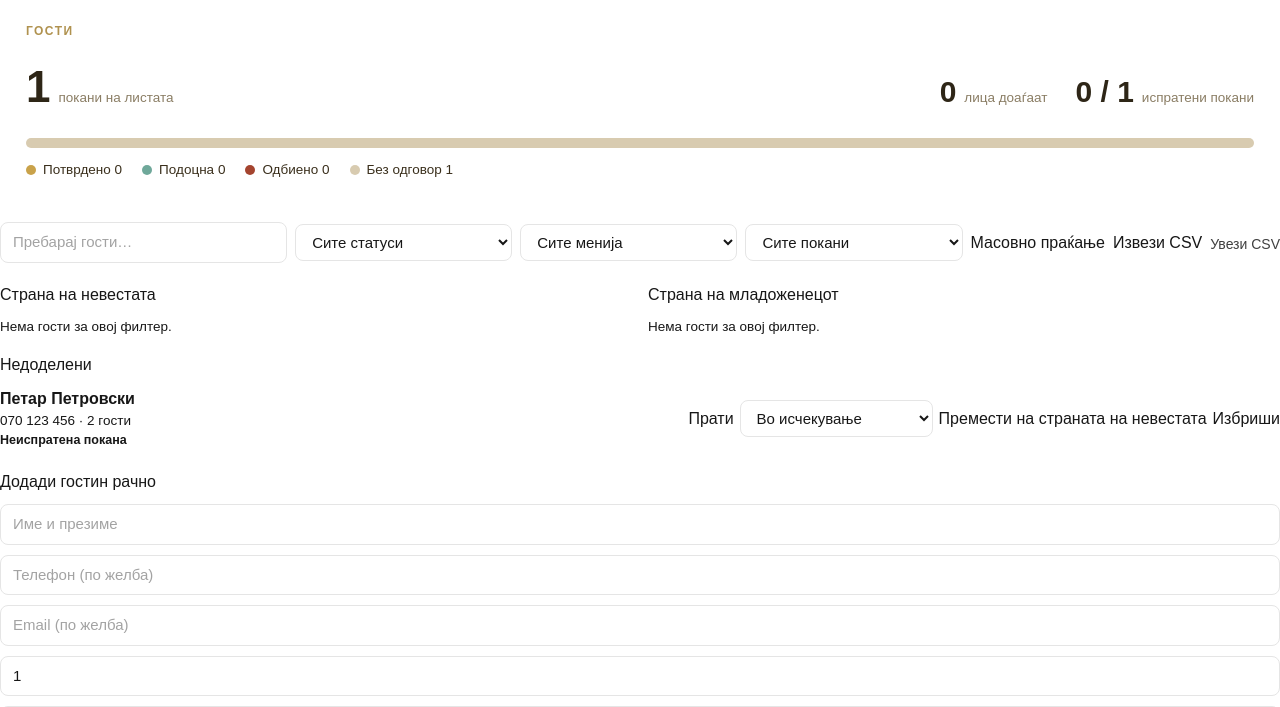
Test: GuestsClient sending invitations (A9) › asks for the invitation first when there is none
This screenshot has width=1280, height=707.
Click the button with aria-label "Прати покана на Петар Петровски".
click(711, 418)  # box [688, 406, 734, 430]
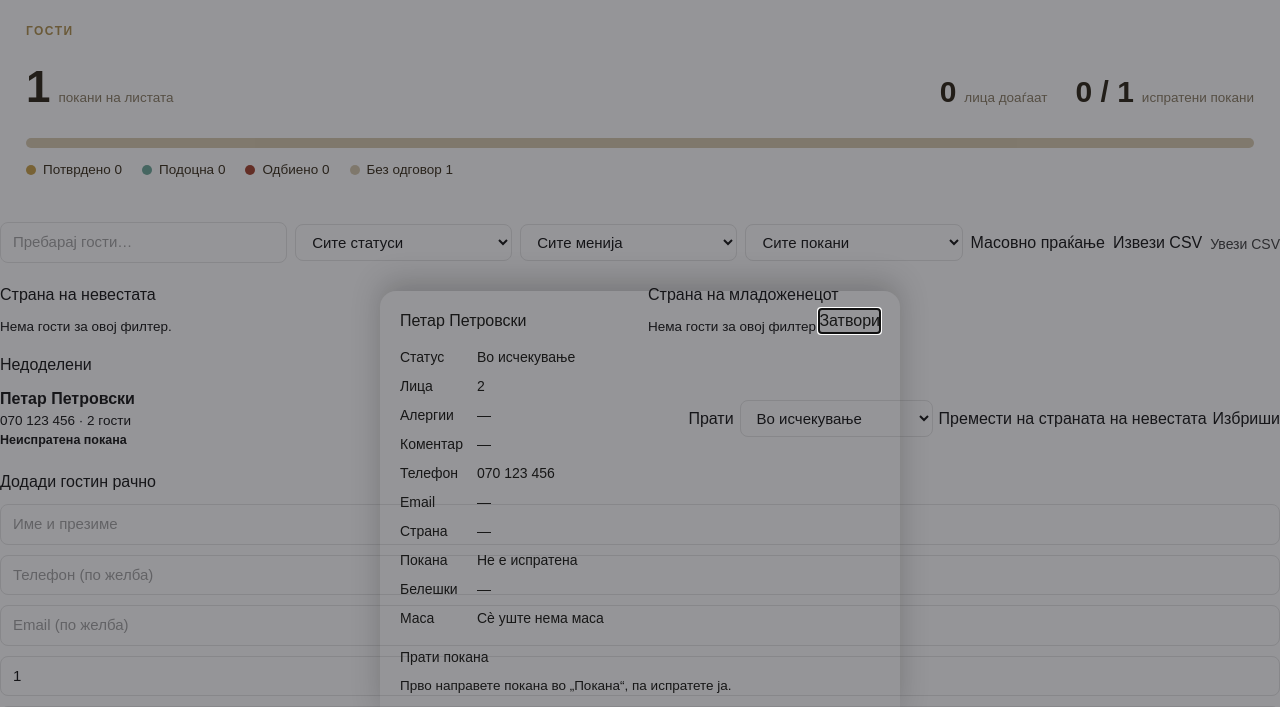
Expected: the text "Прво направете покана во „Покана“, па испратете ја." is shown, [400, 678, 732, 693]
